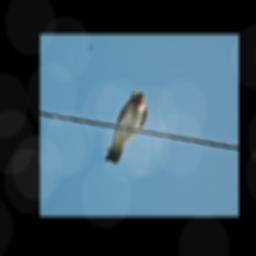Swallow: (104, 90, 148, 165)
